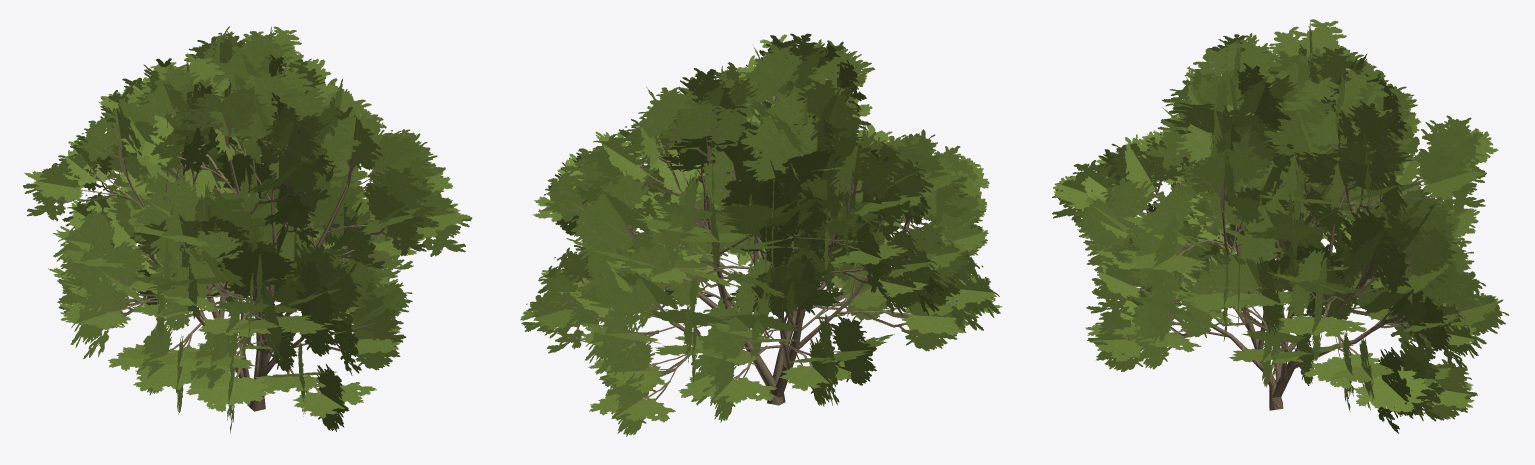
The model's file is JuglansRegia.glb.
The picture shows the model from 3 angles, left to right: view 1: azimuth 30°, elevation 25°; view 2: azimuth 150°, elevation 25°; view 3: azimuth 270°, elevation 25°; orthographic projection.
Visible parts, largest first — view 1: California_Walnut__Realistic_LOD3; view 2: California_Walnut__Realistic_LOD3; view 3: California_Walnut__Realistic_LOD3.
Boxes of the visible parts, x1=… form: California_Walnut__Realistic_LOD3: x1=23, y1=26, x2=472, y2=433; California_Walnut__Realistic_LOD3: x1=520, y1=33, x2=1002, y2=436; California_Walnut__Realistic_LOD3: x1=1052, y1=19, x2=1508, y2=433.
Size of the model in its own units: 12.96 by 10.49 by 12.32.
Materials: 1 (1 with a texture image).
